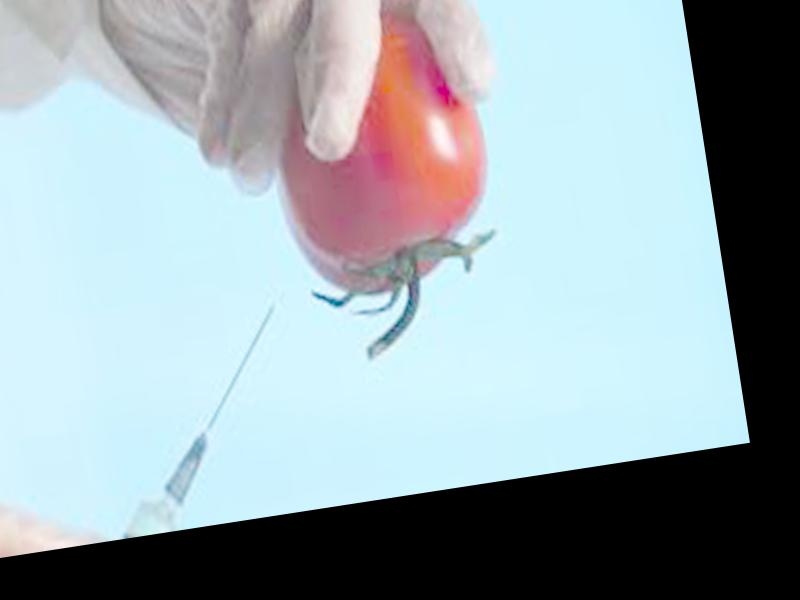Tomato: (258, 1, 505, 305)
